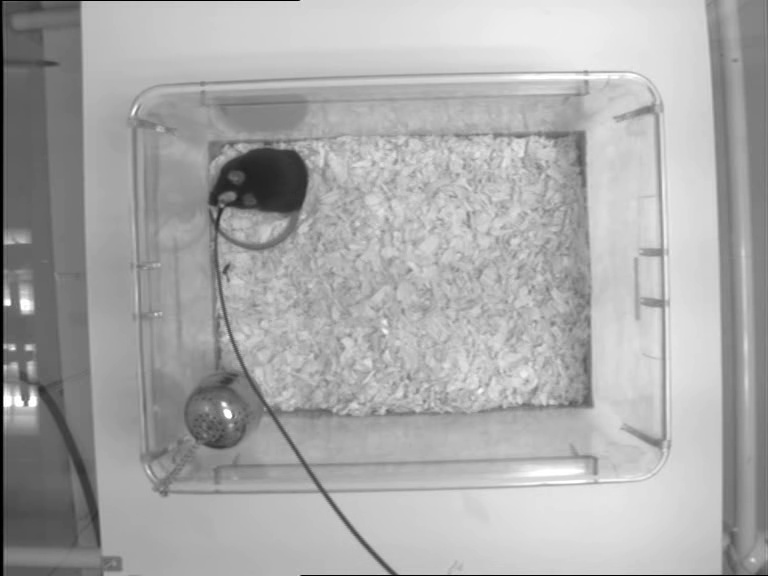mice: (206, 150, 308, 251)
